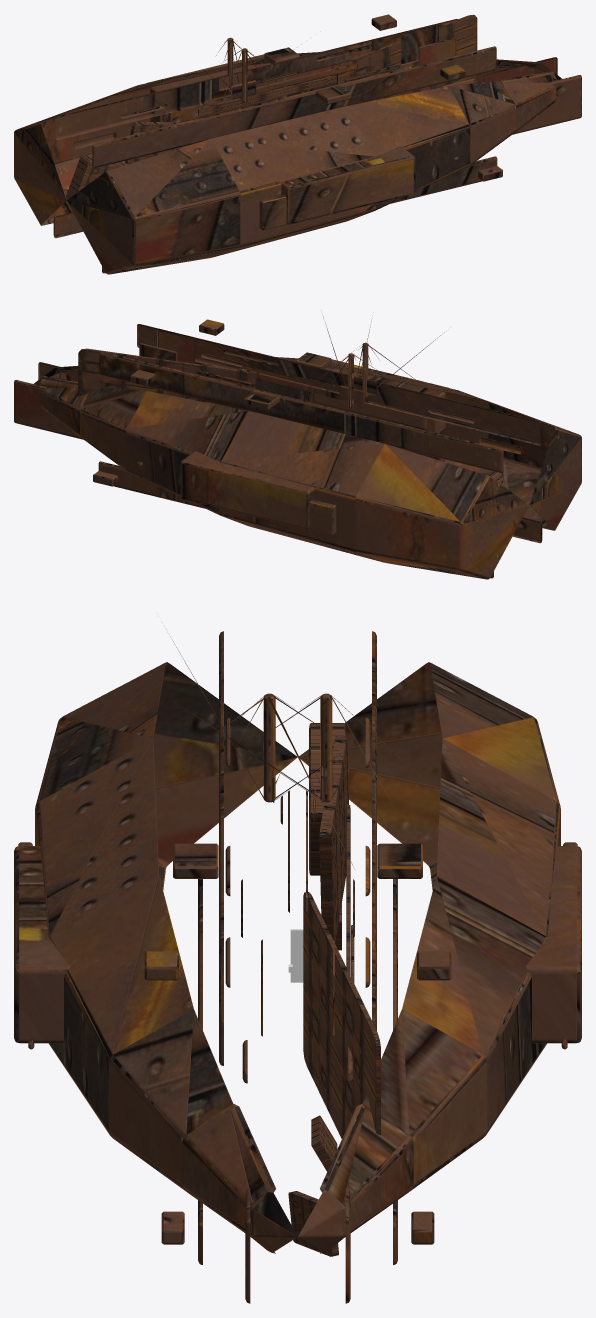
Rendered from hull_miner.glb.
3 views of the same model, one above another, from view 1: azimuth 30°, elevation 25°; view 2: azimuth 150°, elevation 25°; view 3: azimuth 270°, elevation 25° (orthographic). The views are drawn at different scales.
Visible parts, largest first — view 1: LOD0_HULL_MINER_MAIN, DET_ore_dust_cake, DET_rust_stripe, DET_exhaust_soot, DET_hopper_rim; view 2: LOD0_HULL_MINER_MAIN, DET_ore_dust_cake; view 3: LOD0_HULL_MINER_MAIN, DET_ore_dust_cake, DET_hopper_rim, DET_exhaust_soot, DET_dock_scrape, DET_chute_scar.
Boxes of the visible parts, <box> form: LOD0_HULL_MINER_MAIN: <box>14,14,581,274</box>; DET_ore_dust_cake: <box>336,14,477,102</box>; DET_rust_stripe: <box>198,74,336,115</box>; DET_exhaust_soot: <box>66,154,127,198</box>; DET_hopper_rim: <box>125,121,190,164</box>; LOD0_HULL_MINER_MAIN: <box>14,316,581,579</box>; DET_ore_dust_cake: <box>78,348,255,407</box>; LOD0_HULL_MINER_MAIN: <box>14,629,581,1303</box>; DET_ore_dust_cake: <box>303,892,380,1138</box>; DET_hopper_rim: <box>319,736,348,942</box>; DET_exhaust_soot: <box>309,723,345,875</box>; DET_dock_scrape: <box>288,1191,338,1256</box>; DET_chute_scar: <box>311,1115,337,1171</box>.
Size of the model in its own units: 10.95 by 4.06 by 5.4.
Materials: 3 (3 with a texture image).
